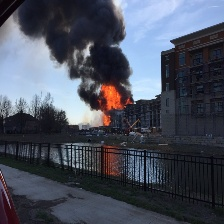fire: (98, 82, 133, 128)
smoke: (16, 1, 139, 99)
